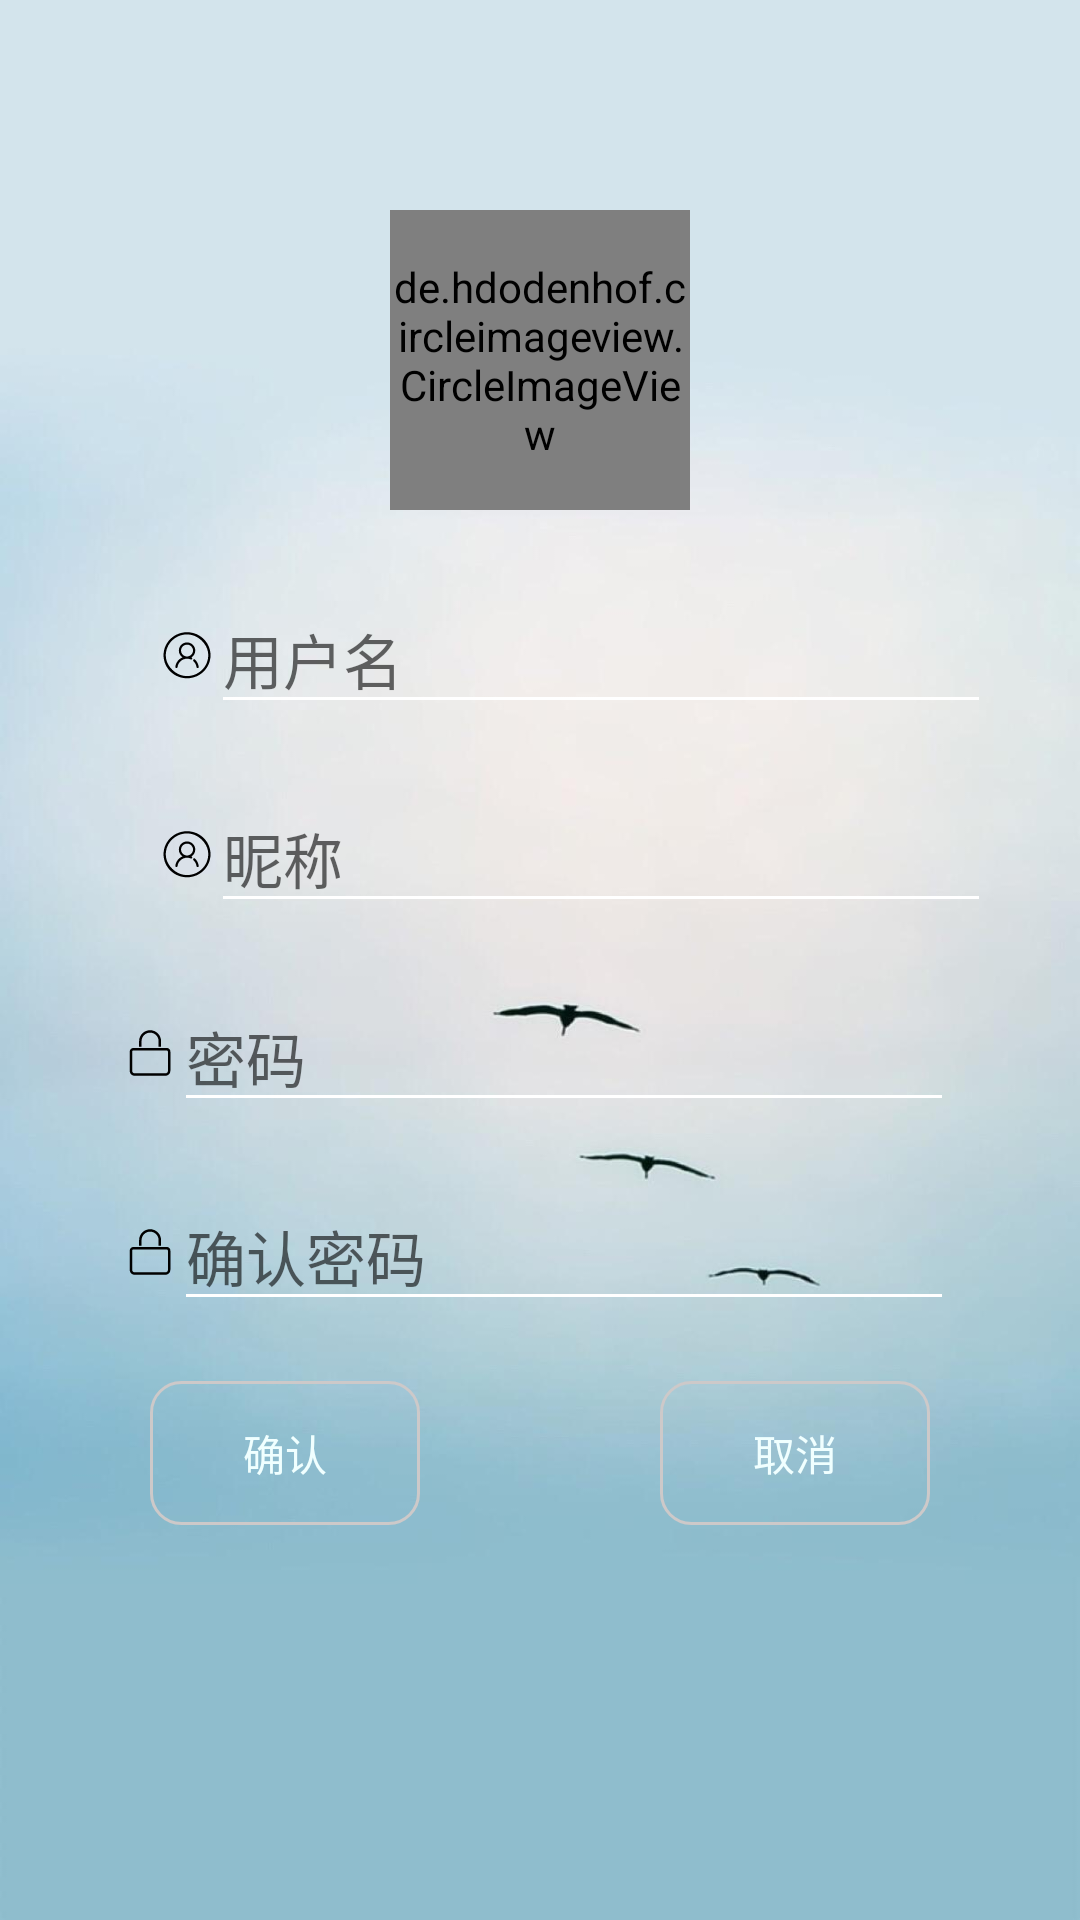

Icon bounding boxes for this 1080 × 1920 phone screenshot, format (x1, y1, x2, y2):
userhead: (163, 632, 211, 679), (163, 831, 211, 878)
